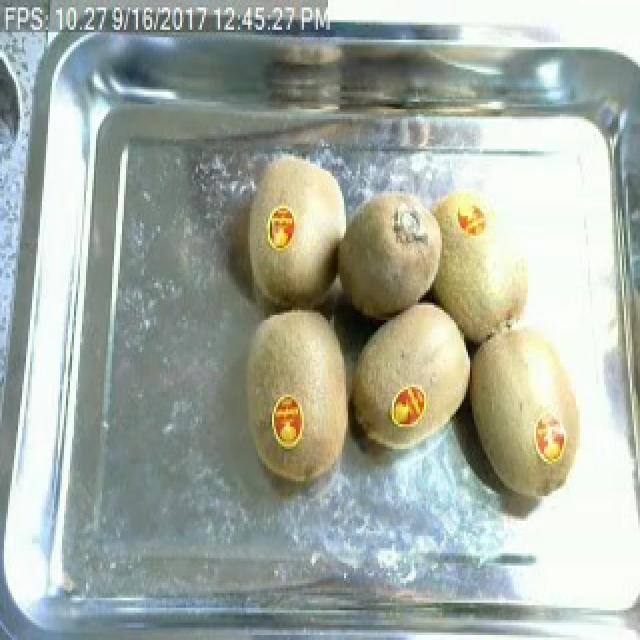Fruit: (458, 310, 598, 509), (226, 300, 362, 494), (328, 181, 452, 330), (344, 293, 472, 434)
